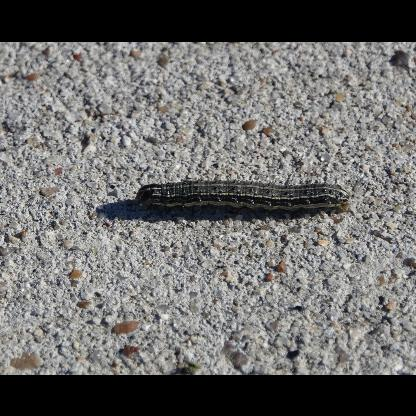Fall Armyworm Larvae: (131, 172, 359, 218)
